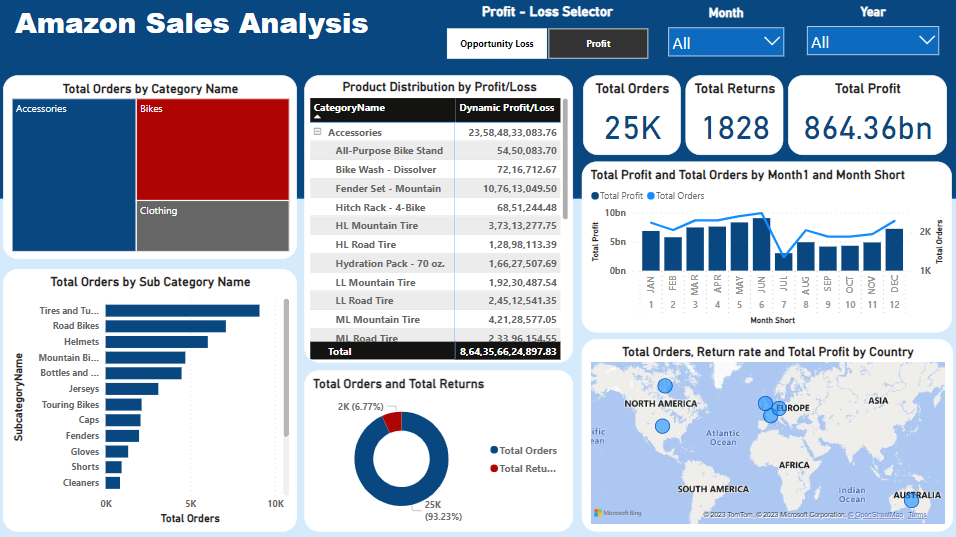

This screenshot's page, from the dashboard's own definition file:
{"tool":"powerbi","page":{"name":"Page 1","canvas":[1280,720],"ordinal":0},"visuals":[{"type":"shape","box":[0,0,1280,266],"z":0},{"type":"treemap","title":"Total Orders by Category Name","fields":{"Group":["Amazon_Product_Categories.CategoryName"],"Values":["AM_Sales.Total Orders"]},"box":[6.7,101.7,391.7,245],"z":1000},{"type":"clusteredBarChart","title":"Total Orders by Sub Category Name","fields":{"Category":["Amazon_Product_Subcategories.SubcategoryName"],"Y":["AM_Sales.Total Orders"]},"box":[6.7,360,391.7,350],"z":2000},{"type":"pivotTable","title":"Product Distribution by Profit/Loss","fields":{"Rows":["Amazon_Product_Categories.CategoryName","Amazon_Products.ProductName"],"Values":["AM_Sales.Dynamic Profit/Loss"]},"box":[408.3,101.7,358.3,383.3],"z":3000},{"type":"textbox","box":[0,0,516.7,76.7],"z":4000},{"type":"map","fields":{"Category":["Amazon_Territories.Country"],"Size":["AM_Sales.Total Orders"]},"box":[778.6,457.1,494.3,255.7],"z":5000},{"type":"donutChart","fields":{"Y":["AM_Sales.Total Orders","Amazon_Returns.Total Returns"]},"box":[408.3,495,358.3,215],"z":6000},{"type":"slicer","title":"Month","fields":{"Values":["Amazon_Calendar.Month"]},"box":[883.3,5,175,76.7],"z":7000},{"type":"lineStackedColumnComboChart","fields":{"Y":["AM_Sales.Total Profit"],"Y2":["AM_Sales.Total Orders"],"Category":["Amazon_Calendar.Month1","Amazon_Calendar.Month Short"]},"box":[778.8,219.4,493.6,229],"z":8000},{"type":"card","title":"Total Orders","fields":{"Values":["AM_Sales.Total Orders"]},"box":[780,101.7,130,106.7],"z":9000},{"type":"card","title":"Total Profit","fields":{"Values":["AM_Sales.Total Profit"]},"box":[1053.3,101.7,211.7,106.7],"z":10000},{"type":"card","title":"Total Returns","fields":{"Values":["Amazon_Returns.Total Returns"]},"box":[916.7,101.7,130,106.7],"z":11000},{"type":"slicer","title":"Profit - Loss Selector","fields":{"Values":["Profit Loss Toggle.Values"]},"box":[593.3,0,290,81.7],"z":12000},{"type":"slicer","title":"Year","fields":{"Values":["Amazon_Calendar.Year"]},"box":[1068.3,5,196.7,76.7],"z":13000}]}

Visuals, with their boxes in screenshot pixels (x1, y1, x2, y2), scaled from the page's 1280x720 canvas onto the 956x537 screenshot:
shape: bbox=[0, 0, 955, 198]
"Total Orders by Category Name" treemap: bbox=[5, 76, 298, 259]
"Total Orders by Sub Category Name" clusteredBarChart: bbox=[5, 268, 298, 530]
"Product Distribution by Profit/Loss" pivotTable: bbox=[305, 76, 573, 362]
textbox: bbox=[0, 0, 386, 57]
map - Amazon_Territories.Country x AM_Sales.Total Orders: bbox=[582, 341, 951, 532]
donutChart - AM_Sales.Total Orders x Amazon_Returns.Total Returns: bbox=[305, 369, 573, 530]
"Month" slicer: bbox=[660, 4, 790, 61]
lineStackedColumnComboChart - AM_Sales.Total Profit x AM_Sales.Total Orders: bbox=[582, 164, 950, 334]
"Total Orders" card: bbox=[583, 76, 680, 155]
"Total Profit" card: bbox=[787, 76, 945, 155]
"Total Returns" card: bbox=[685, 76, 782, 155]
"Profit - Loss Selector" slicer: bbox=[443, 0, 660, 61]
"Year" slicer: bbox=[798, 4, 945, 61]
